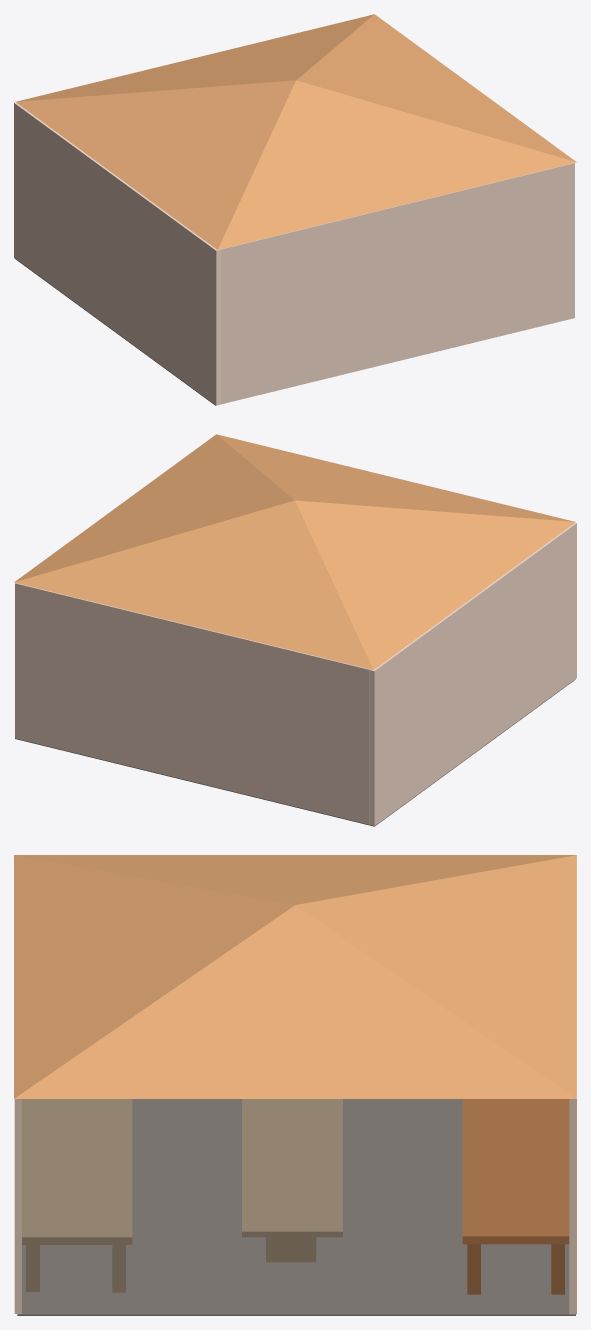
The model's file is pared.glb.
3 views of the same model, one above another, from view 1: azimuth 30°, elevation 25°; view 2: azimuth 150°, elevation 25°; view 3: azimuth 270°, elevation 25° (orthographic). The views are drawn at different scales.
Visible parts, largest first — view 1: Cubo.001, Cube.003, Cube.004; view 2: Cubo.001, Cube.001, Cube.004, Cubo; view 3: Cubo.001, Cubo, Cubo.003, Cubo.004, Cubo.002, Cube.001, Cube.003.
Part boxes in pixels (bbox=[...]): Cubo.001: bbox=[16, 14, 576, 249]; Cube.003: bbox=[221, 163, 574, 404]; Cube.004: bbox=[14, 102, 220, 405]; Cubo.001: bbox=[14, 434, 575, 669]; Cube.001: bbox=[15, 583, 370, 824]; Cube.004: bbox=[370, 522, 576, 825]; Cubo: bbox=[15, 679, 575, 826]; Cubo.001: bbox=[14, 855, 576, 1098]; Cubo: bbox=[17, 1099, 575, 1315]; Cubo.003: bbox=[22, 1099, 132, 1292]; Cubo.004: bbox=[462, 1099, 569, 1294]; Cubo.002: bbox=[242, 1099, 342, 1262]; Cube.001: bbox=[569, 858, 576, 1314]; Cube.003: bbox=[14, 1099, 21, 1313].
Size of the model in its own units: 62.57 by 34.53 by 60.84.
